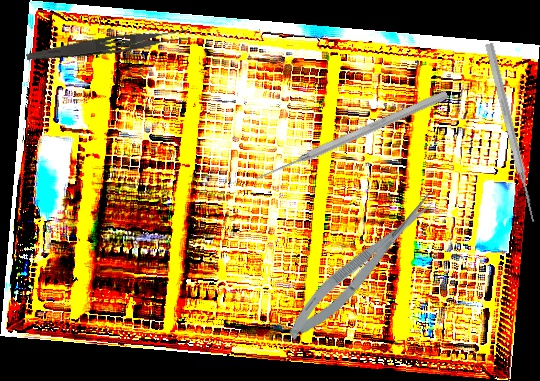Dressing Forceps: (25, 24, 192, 69)
Micro Scissor: (278, 189, 445, 347)
Pusher: (252, 87, 450, 186), (482, 42, 540, 224)
